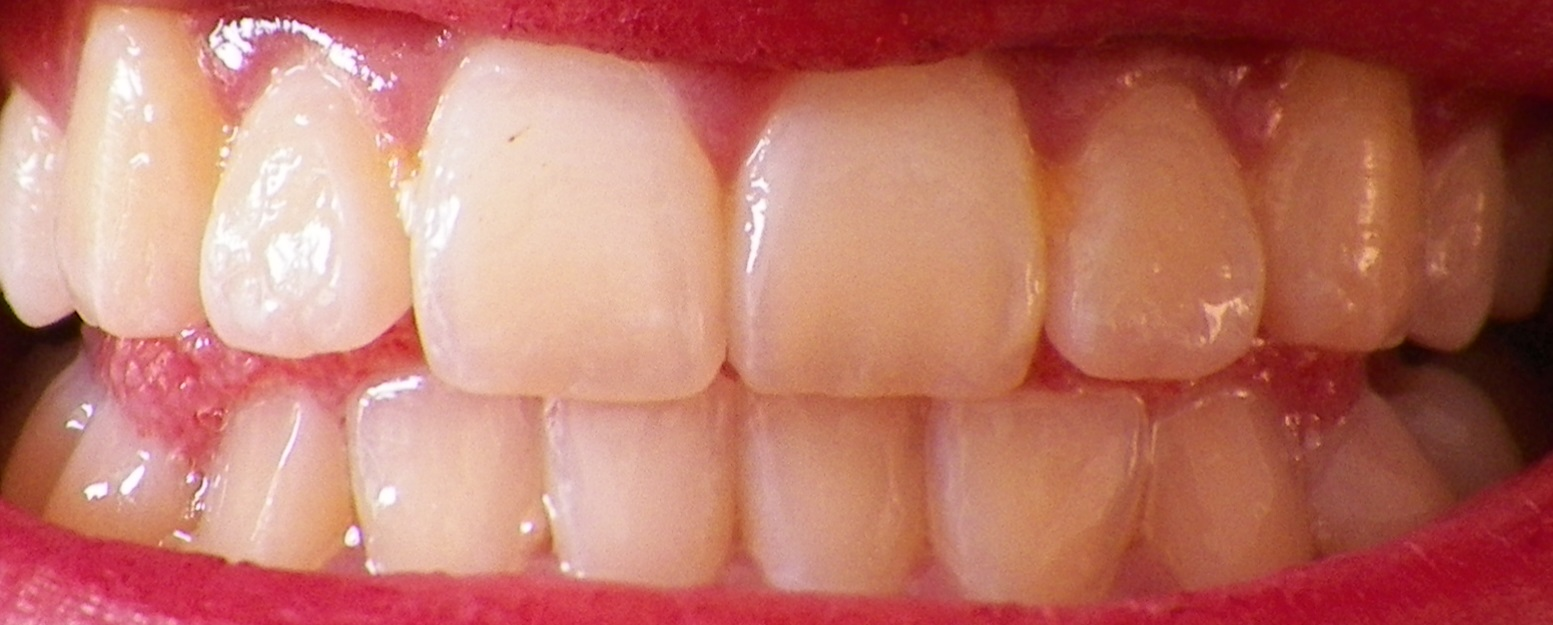boca: (1, 1, 1510, 598)
